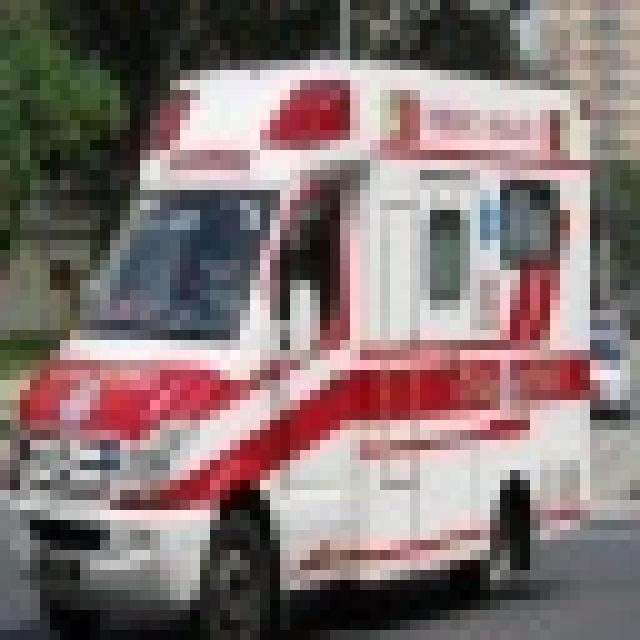Ambulance: (0, 50, 590, 630)
